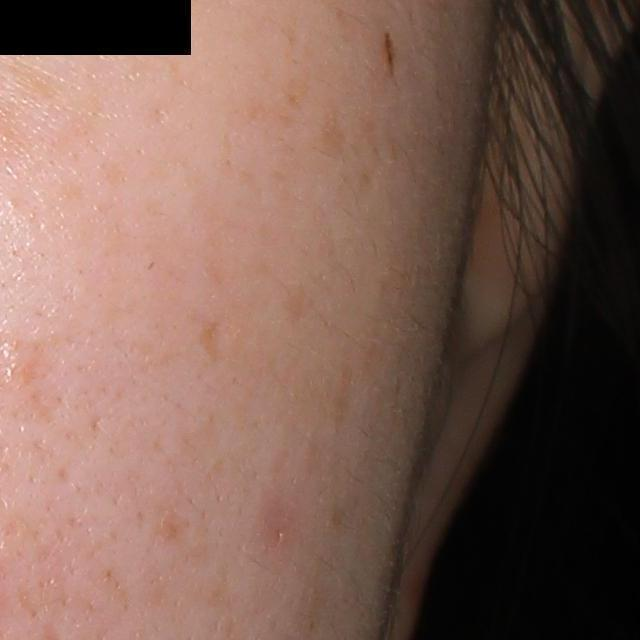melasma: (1, 51, 61, 105), (315, 101, 349, 159), (198, 317, 222, 363)
